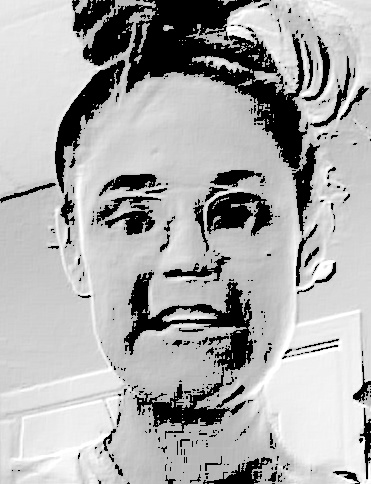nose_M_C: (152, 222, 230, 300)
